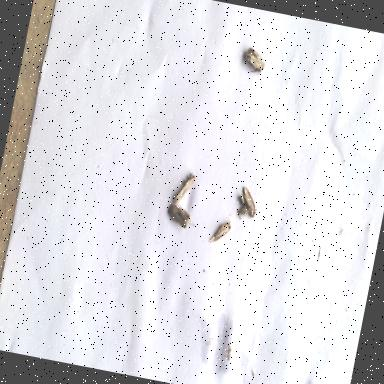pbw: (172, 173, 196, 207), (242, 46, 268, 76), (238, 187, 262, 219), (164, 205, 192, 230), (210, 220, 232, 246)
